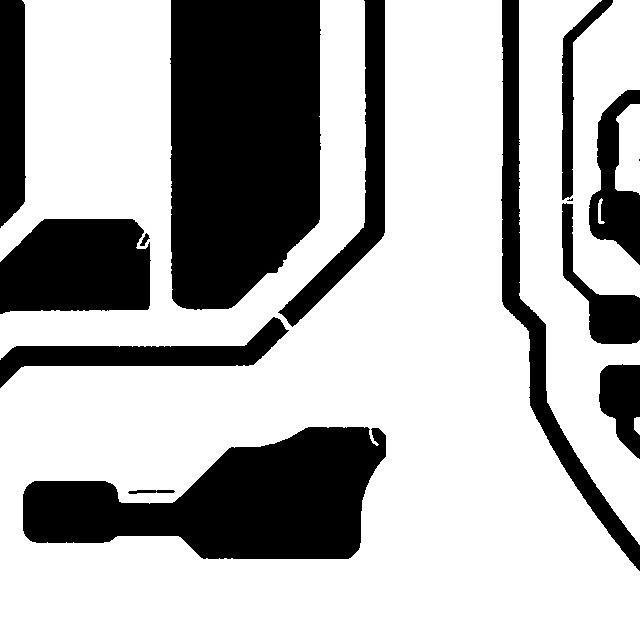copper: (118, 480, 184, 503)
mousebite: (126, 219, 161, 258), (359, 415, 388, 455)
open: (264, 303, 301, 339), (550, 184, 585, 213)
pin-hole: (588, 188, 614, 233)
spur: (257, 240, 296, 282)
